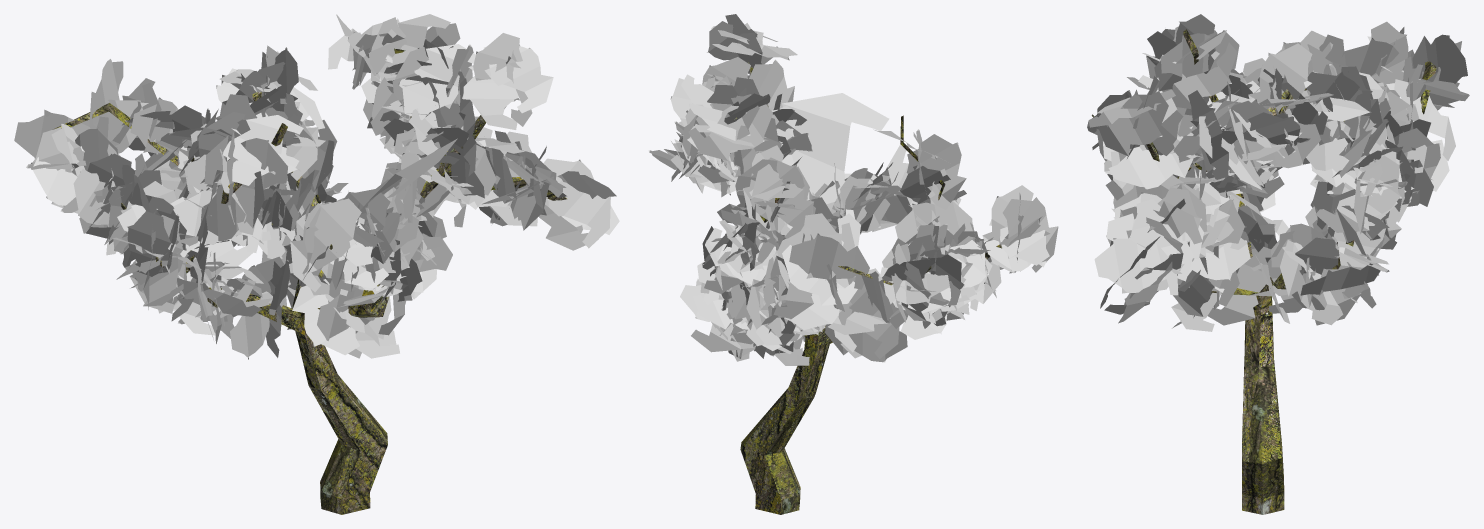
The model's file is drzewo.fbx.
3 renders of one model, left to right at view 1: azimuth 30°, elevation 25°; view 2: azimuth 150°, elevation 25°; view 3: azimuth 270°, elevation 25°, orthographic. The views are drawn at different scales.
Parts seen in each view (by area): view 1: Cube, Cube|Tree Branch|Dupli|299, Cube|Tree Branch|Dupli|140, Cube|Tree Branch|Dupli|113, Cube|Tree Branch|Dupli|189, Cube|Tree Branch|Dupli|191, Cube|Tree Branch|Dupli|21, Cube|Tree Branch|Dupli|156, Cube|Tree Branch|Dupli|193, Cube|Tree Branch|Dupli|63, Cube|Tree Branch|Dupli|7, Cube|Tree Branch|Dupli|227 (+49 smaller); view 2: Cube, Tree Branch, Cube|Tree Branch|Dupli|225, Cube|Tree Branch|Dupli|101, Cube|Tree Branch|Dupli|190, Cube|Tree Branch|Dupli|185, Cube|Tree Branch|Dupli|146, Cube|Tree Branch|Dupli|59, Cube|Tree Branch|Dupli|224, Cube|Tree Branch|Dupli|262, Cube|Tree Branch|Dupli|67, Cube|Tree Branch|Dupli|171 (+48 smaller); view 3: Cube, Cube|Tree Branch|Dupli|144, Cube|Tree Branch|Dupli|66, Cube|Tree Branch|Dupli|27, Cube|Tree Branch|Dupli|64, Cube|Tree Branch|Dupli|4, Cube|Tree Branch|Dupli|99, Cube|Tree Branch|Dupli|193, Cube|Tree Branch|Dupli|225, Cube|Tree Branch|Dupli|192, Cube|Tree Branch|Dupli|92, Cube|Tree Branch|Dupli|60 (+56 smaller).
Boxes of the visible parts, box(x1,y1,x2,y2) form: Cube: box(53, 48, 566, 514); Cube|Tree Branch|Dupli|299: box(290, 198, 361, 292); Cube|Tree Branch|Dupli|140: box(543, 158, 610, 248); Cube|Tree Branch|Dupli|113: box(398, 44, 475, 120); Cube|Tree Branch|Dupli|189: box(200, 171, 264, 242); Cube|Tree Branch|Dupli|191: box(221, 115, 303, 185); Cube|Tree Branch|Dupli|21: box(484, 46, 553, 113); Cube|Tree Branch|Dupli|156: box(127, 211, 175, 303); Cube|Tree Branch|Dupli|193: box(204, 135, 287, 189); Cube|Tree Branch|Dupli|63: box(473, 33, 522, 129); Cube|Tree Branch|Dupli|7: box(292, 279, 359, 355); Cube|Tree Branch|Dupli|227: box(14, 109, 108, 158); Cube: box(733, 62, 1001, 514); Tree Branch: box(782, 93, 889, 211); Cube|Tree Branch|Dupli|225: box(789, 233, 869, 289); Cube|Tree Branch|Dupli|101: box(688, 101, 772, 160); Cube|Tree Branch|Dupli|190: box(913, 134, 966, 202); Cube|Tree Branch|Dupli|185: box(895, 201, 972, 243); Cube|Tree Branch|Dupli|146: box(1002, 197, 1058, 272); Cube|Tree Branch|Dupli|59: box(768, 157, 813, 238); Cube|Tree Branch|Dupli|224: box(782, 245, 857, 305); Cube|Tree Branch|Dupli|262: box(847, 277, 899, 358); Cube|Tree Branch|Dupli|67: box(749, 59, 794, 110); Cube|Tree Branch|Dupli|171: box(883, 273, 949, 304); Cube: box(1091, 29, 1436, 514); Cube|Tree Branch|Dupli|144: box(1094, 238, 1178, 295); Cube|Tree Branch|Dupli|66: box(1098, 89, 1168, 156); Cube|Tree Branch|Dupli|27: box(1315, 155, 1401, 232); Cube|Tree Branch|Dupli|64: box(1108, 136, 1193, 189); Cube|Tree Branch|Dupli|4: box(1207, 246, 1271, 325); Cube|Tree Branch|Dupli|99: box(1248, 43, 1312, 103); Cube|Tree Branch|Dupli|193: box(1160, 30, 1239, 81); Cube|Tree Branch|Dupli|225: box(1412, 34, 1467, 83); Cube|Tree Branch|Dupli|192: box(1162, 42, 1237, 108); Cube|Tree Branch|Dupli|92: box(1233, 114, 1321, 171); Cube|Tree Branch|Dupli|60: box(1306, 71, 1382, 127).
Size of the model in its own units: 2534 by 2498 by 1818.
